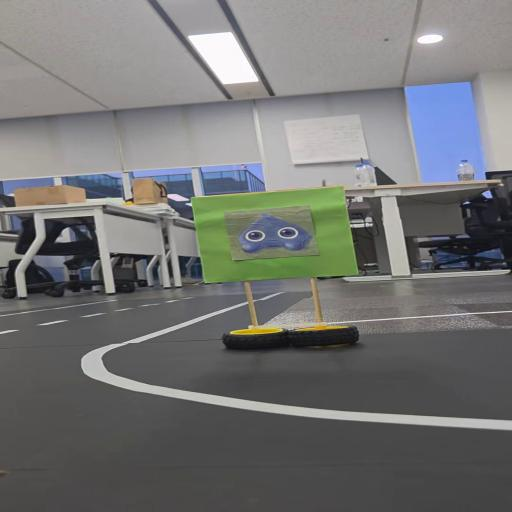Sign_B: (182, 184, 370, 352)
